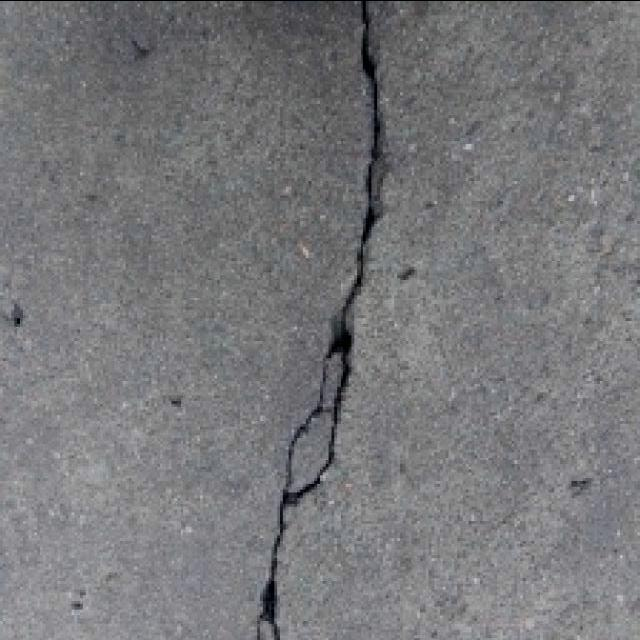SurfaceCrack: (222, 0, 422, 640)
